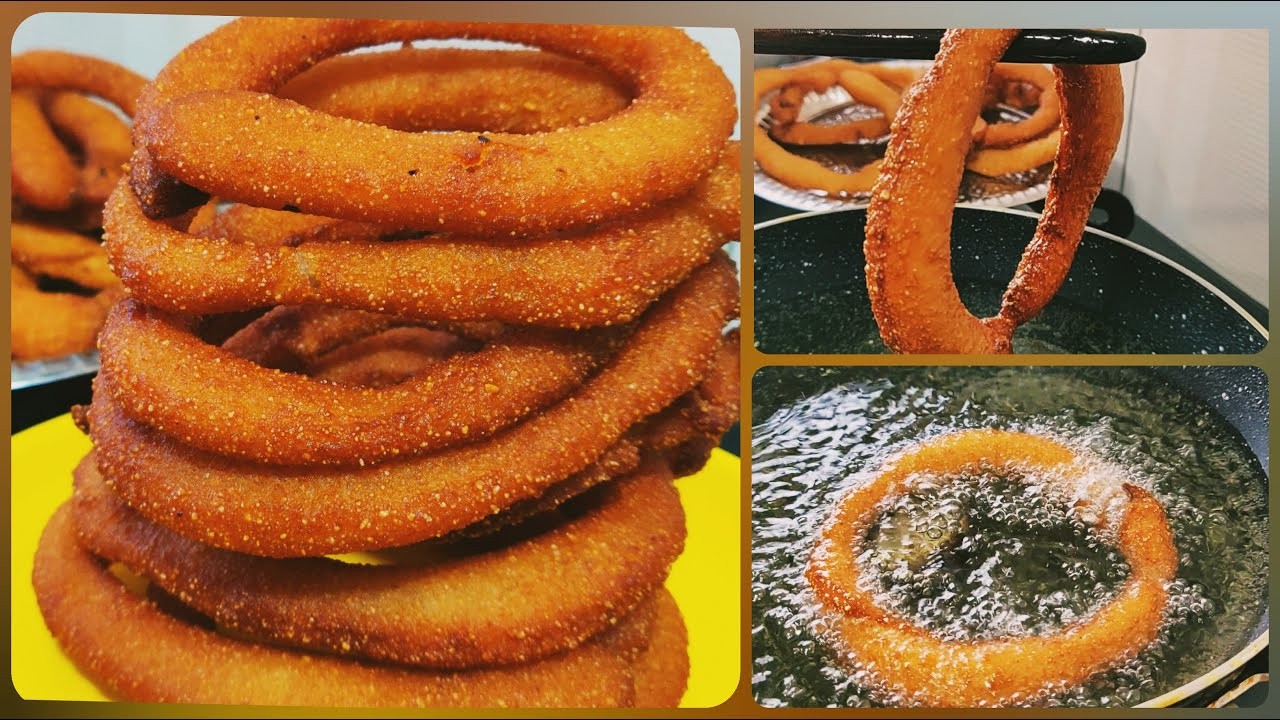sel_roti: (47, 505, 692, 707), (140, 13, 730, 212), (807, 425, 1178, 700), (862, 23, 1122, 352), (88, 325, 612, 472)
